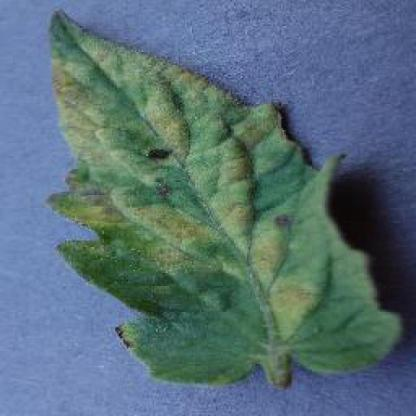Tomato_Leaf_Mold: (49, 18, 402, 383)
